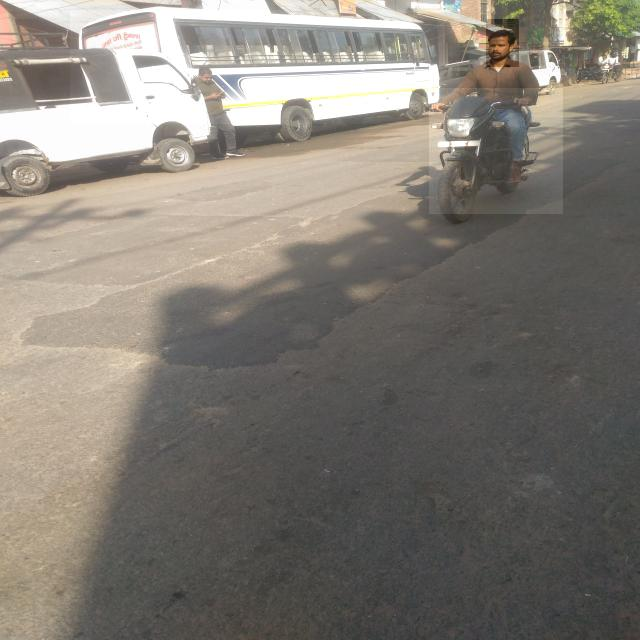Bike: (429, 88, 564, 214)
Bus: (70, 10, 460, 124)
No_Helmet: (486, 19, 519, 67)
